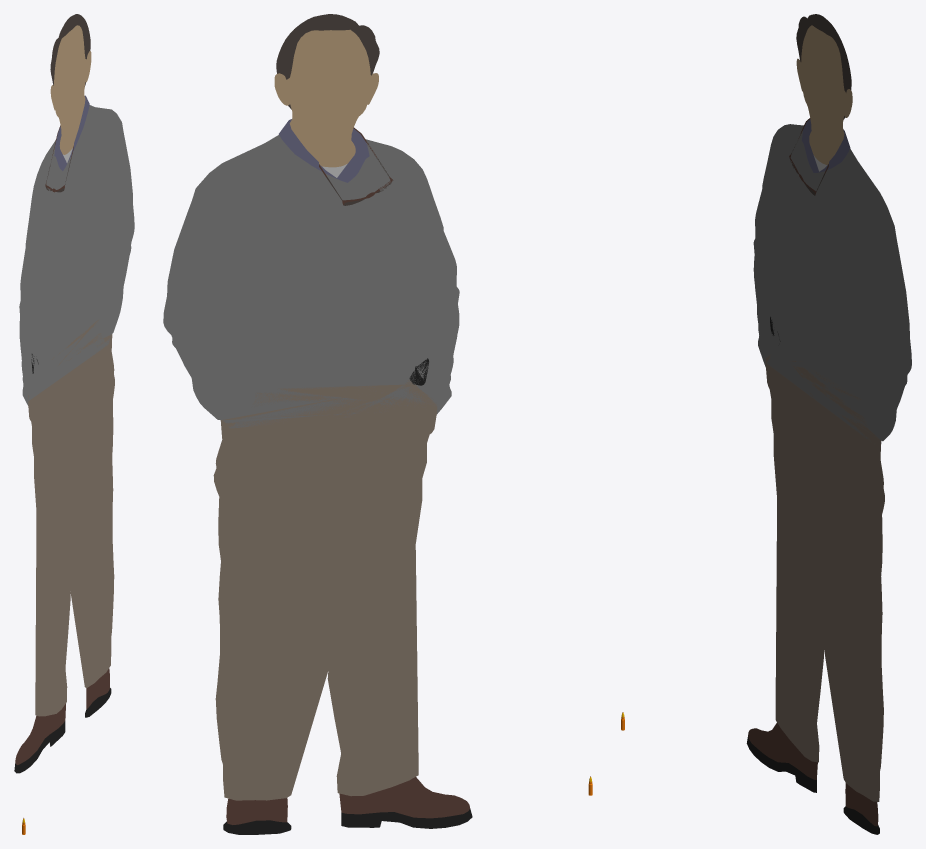
File: bullet.fbx
3 renders of one model, left to right at view 1: azimuth 30°, elevation 25°; view 2: azimuth 150°, elevation 25°; view 3: azimuth 270°, elevation 25°, orthographic. The views are drawn at different scales.
Parts seen in each view (by area): view 1: Derrick1; view 2: Derrick1; view 3: Derrick1.
Boxes of the visible parts, x1,y1,x2,y2 form: Derrick1: (14, 14, 134, 773); Derrick1: (163, 14, 472, 834); Derrick1: (746, 14, 911, 834).
Bounding box in the file's own units: 24.61 × 69.09 × 23.15.
